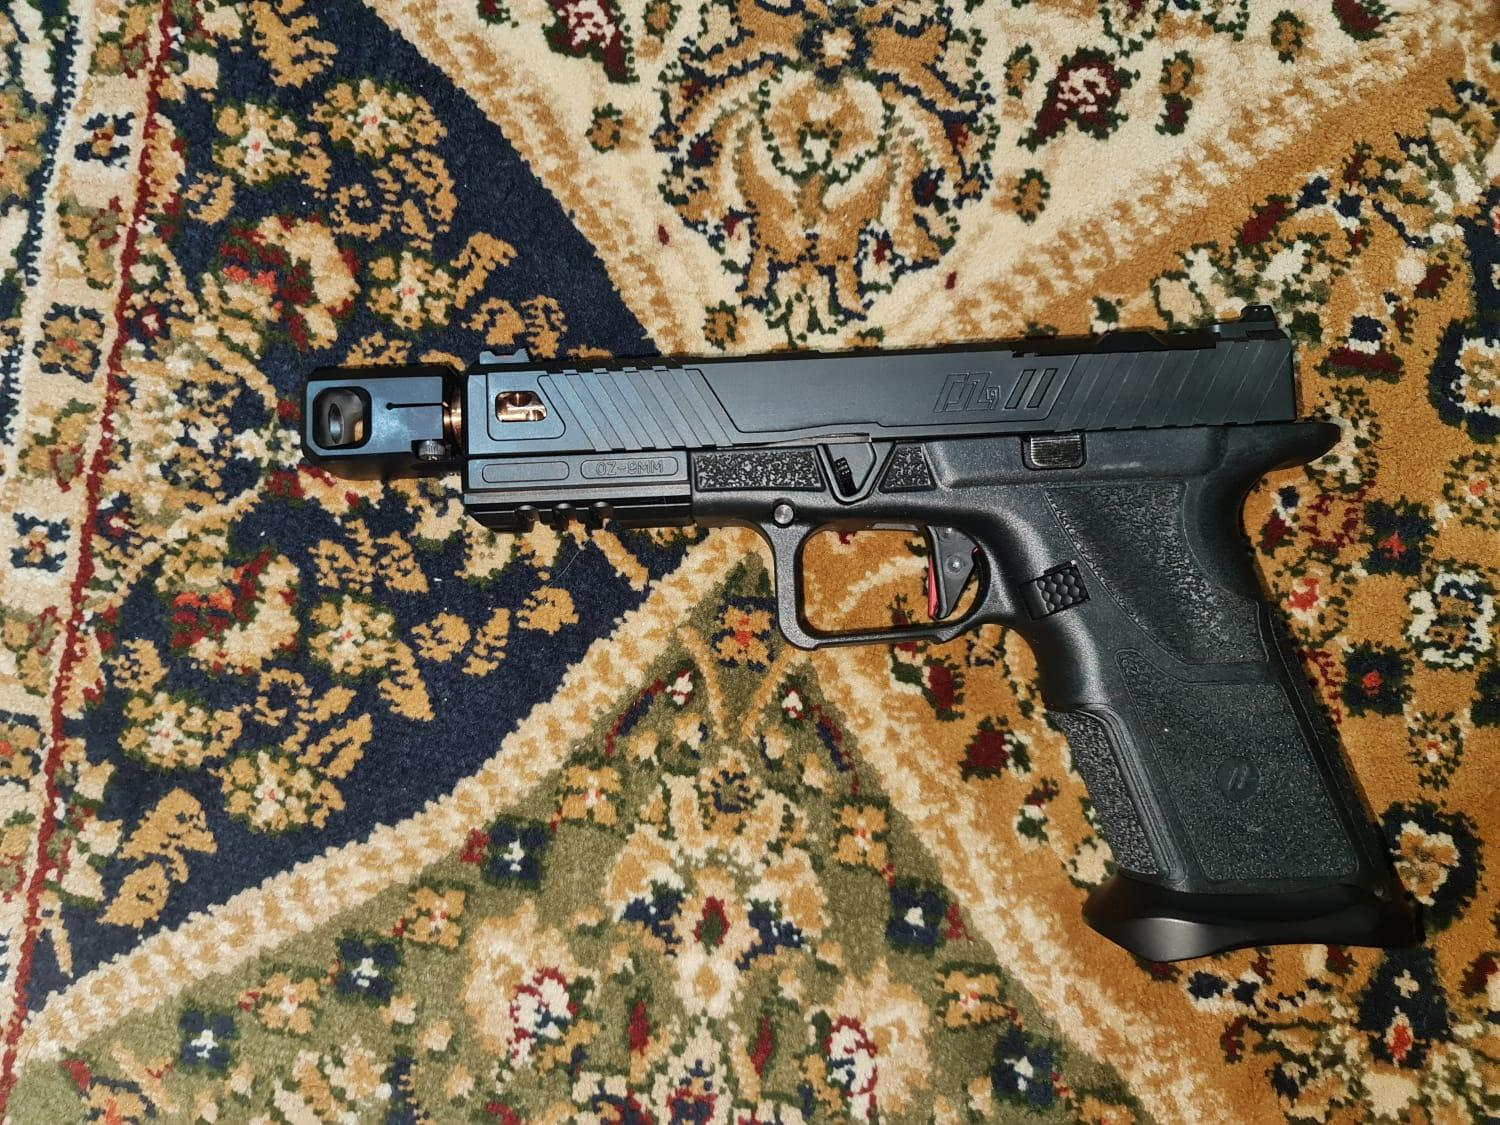weapon: (306, 304, 1409, 965)
